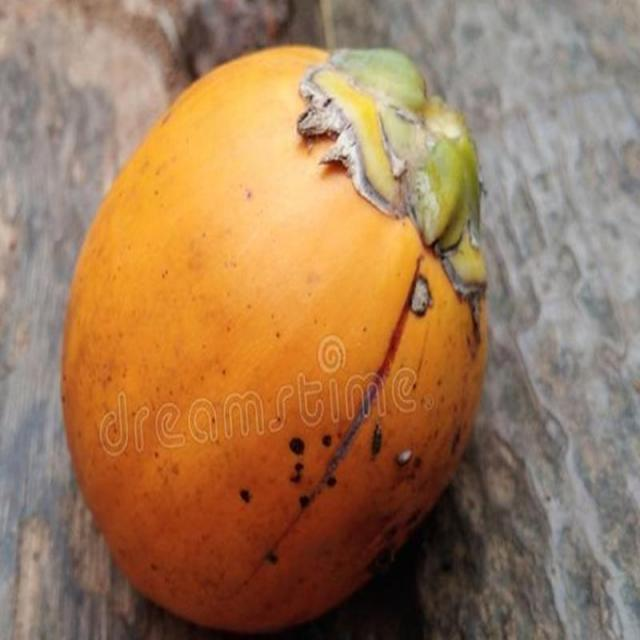good: (59, 45, 491, 638)
